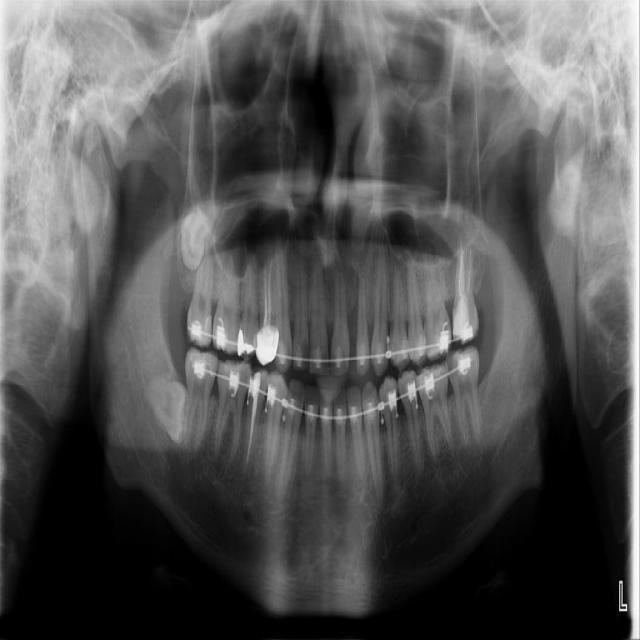3M ESPE Implant: (164, 188, 228, 273)
52: (449, 299, 481, 349), (231, 324, 262, 365), (252, 324, 280, 368), (247, 364, 269, 399)
73: (230, 385, 267, 479), (452, 208, 479, 316), (252, 236, 279, 331), (618, 623, 626, 629)
BioHorizons Implant: (452, 208, 479, 349)
Blue Sky Bio Implant: (444, 345, 482, 449)
Caries: (185, 231, 219, 350)
Implant: (170, 344, 222, 460)
Keystone Dental Implant: (133, 365, 213, 449)
